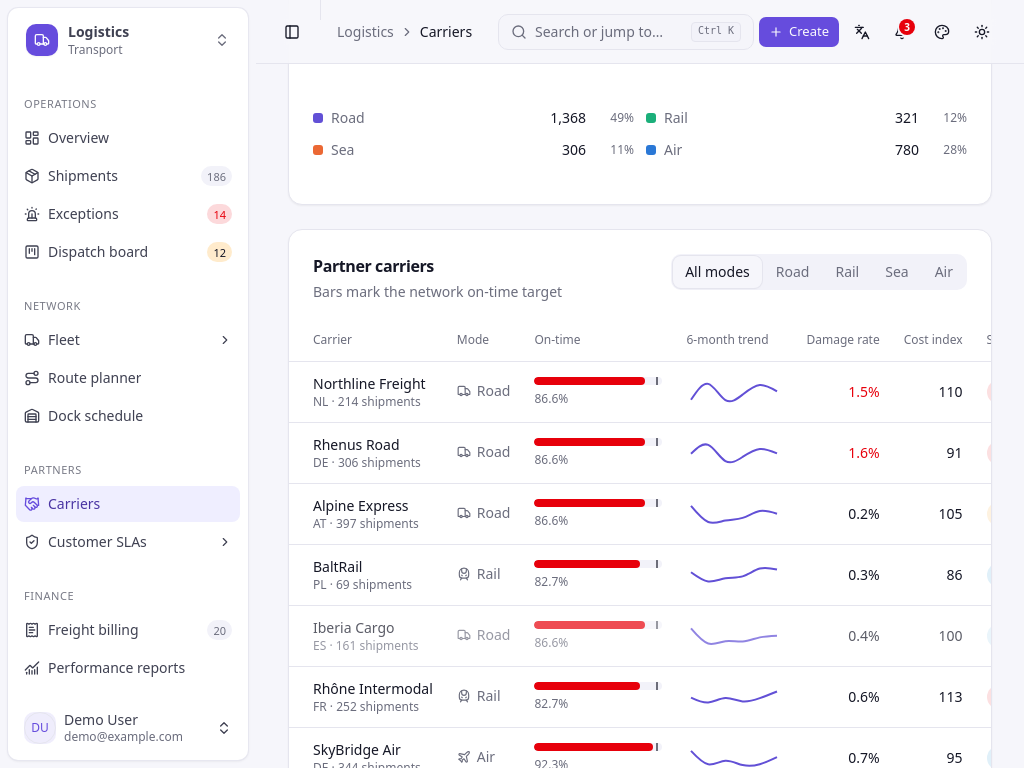
Logistics workspace: carriers, SLAs and performance › lists carriers and opens a carrier scorecard
(page scrolled)
Click the button "Northline Freight". click: [369, 384]
box: [313, 374, 426, 394]
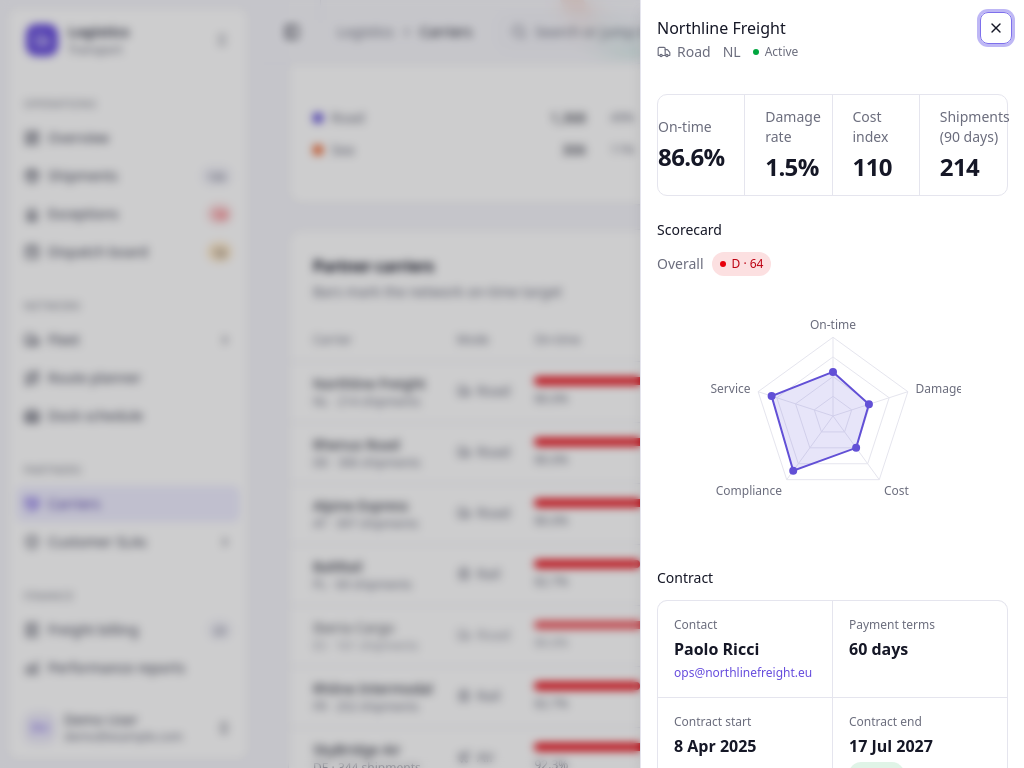
Result: the text "Contract end" is shown at [849, 713, 922, 730]
